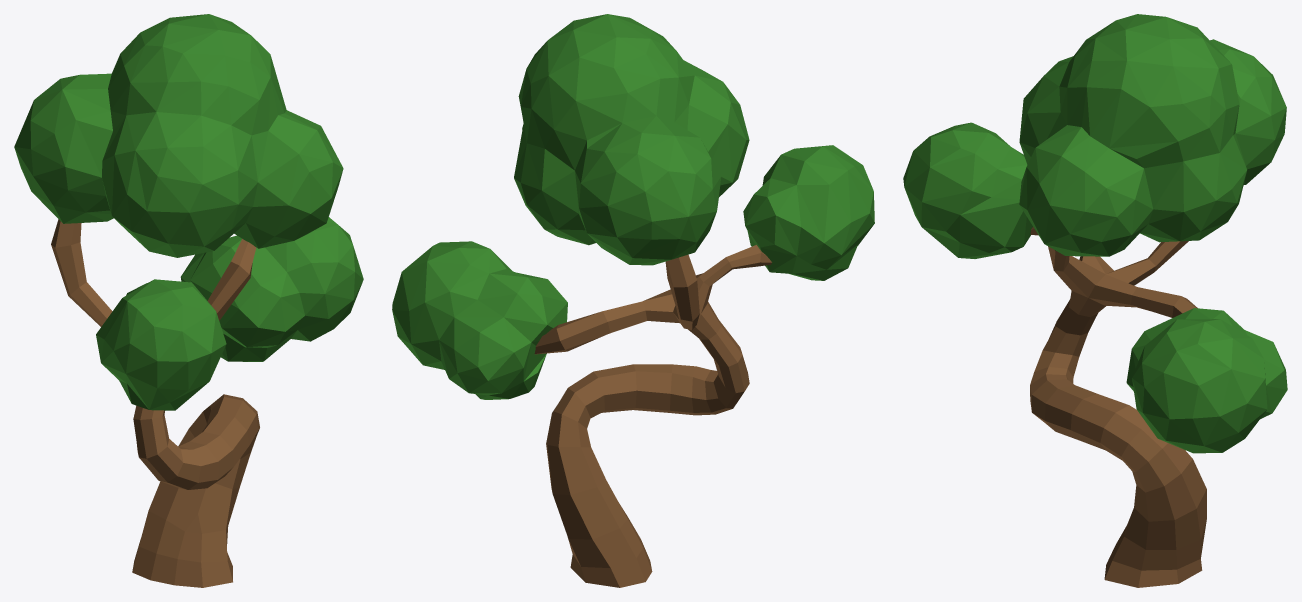
File: tree6.glb
3 renders of one model, left to right at view 1: azimuth 30°, elevation 25°; view 2: azimuth 150°, elevation 25°; view 3: azimuth 270°, elevation 25°, orthographic. The views are drawn at different scales.
Visible parts, largest first — view 1: LowPoly Tree 06; view 2: LowPoly Tree 06; view 3: LowPoly Tree 06.
Boxes of the visible parts, <box> form: LowPoly Tree 06: <box>14,14,363,587</box>; LowPoly Tree 06: <box>392,14,874,587</box>; LowPoly Tree 06: <box>903,14,1287,587</box>.
Bounding box in the file's own units: 2.55 × 3.72 × 2.36.
